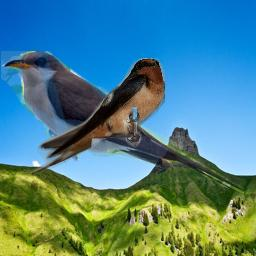Cuckoo: (1, 51, 244, 197)
Swallow: (24, 58, 165, 173)
